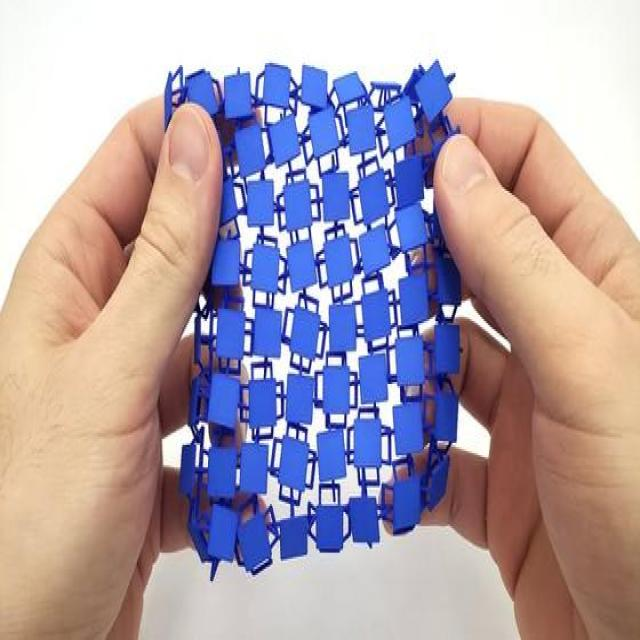Without deffect: (151, 31, 472, 582)
